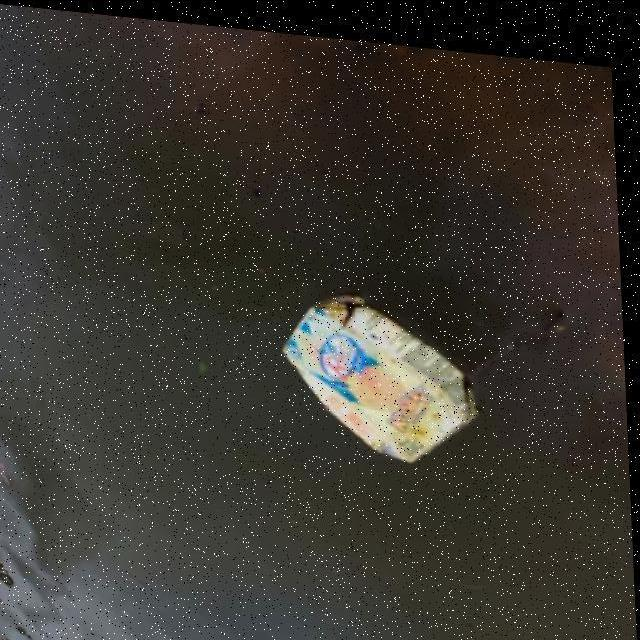Box: (276, 288, 484, 470)
